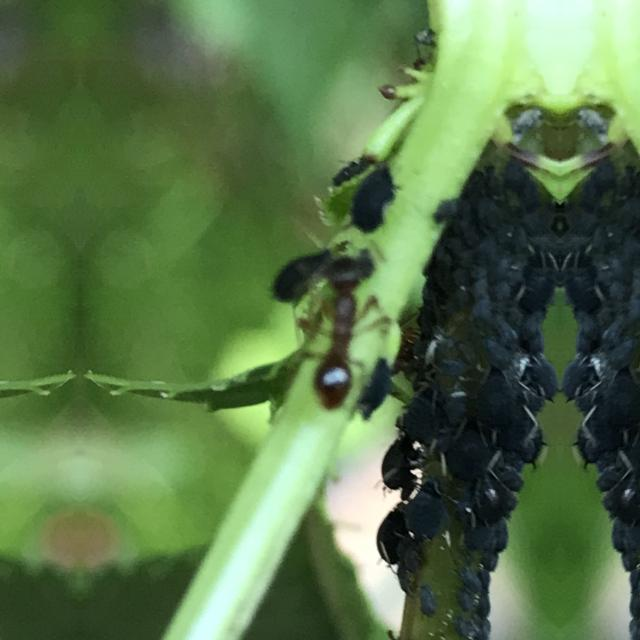Myrmica: (283, 230, 403, 430)
